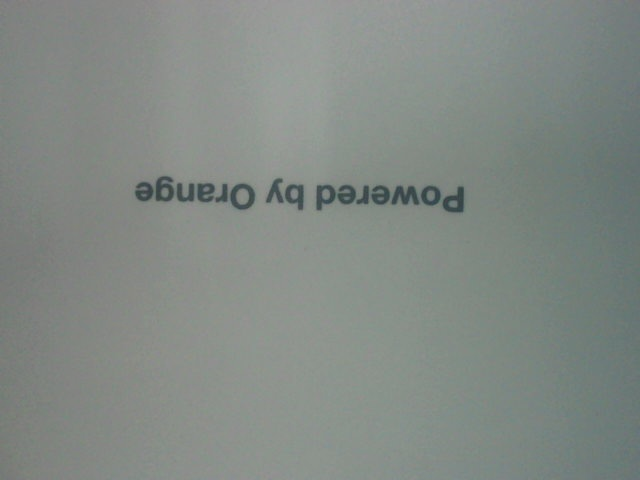AS_PowerByOrange: (128, 159, 472, 232)
